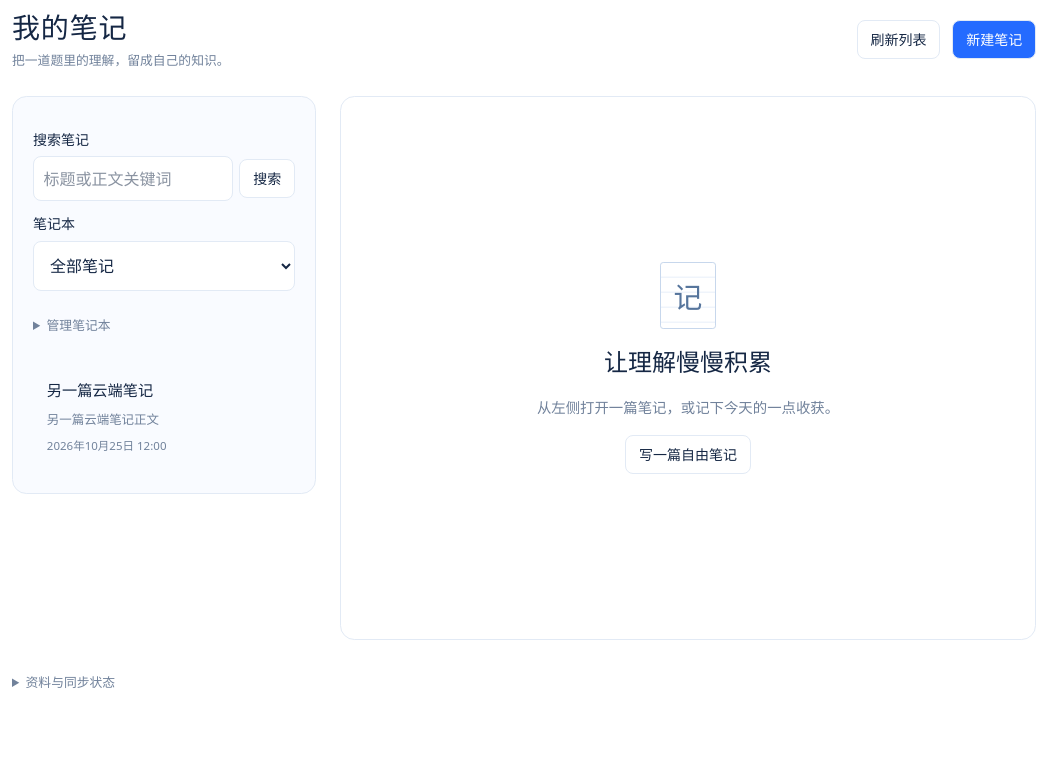
NotesWorkspace › keeps the active input when storage failure blocks switching to another note
The image size is (1048, 768).
Expected: the button "另一篇云端笔记" is shown, x1=33 y1=361 x2=295 y2=473
Click the button "新建笔记" at (994, 40), box x1=952 y1=20 x2=1036 y2=59
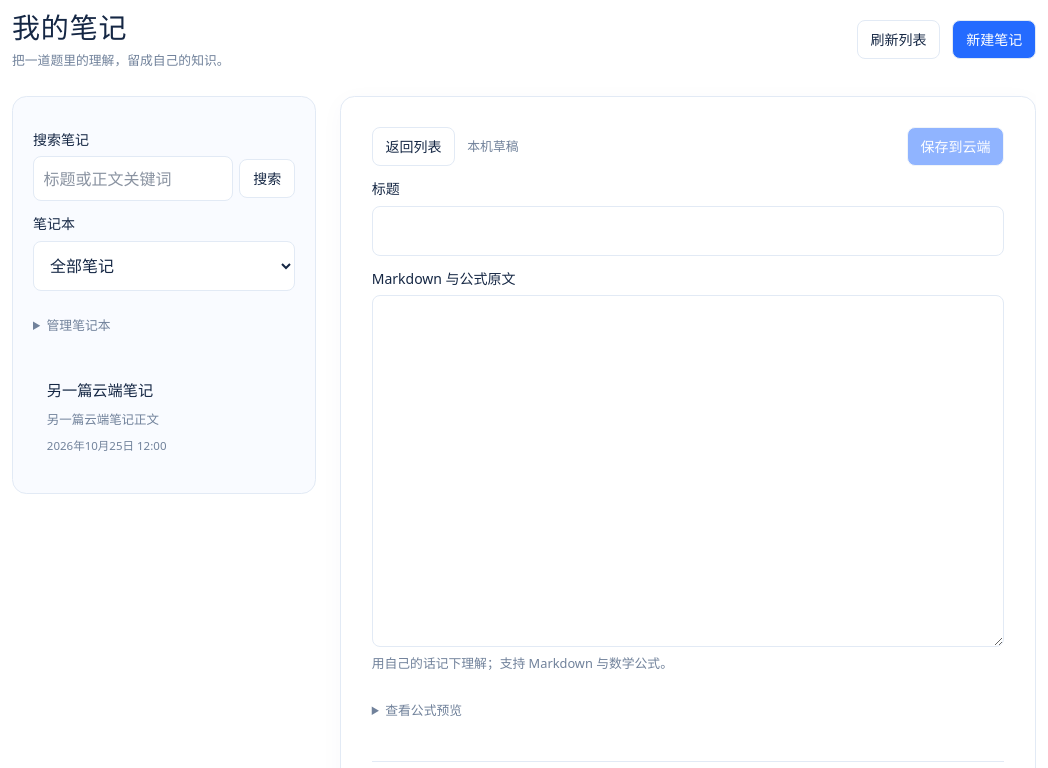
Expected: the field labelled "标题" is shown
Type "只在内存里的理解" into the field labelled "标题" at (688, 231), box x1=372 y1=206 x2=1004 y2=256
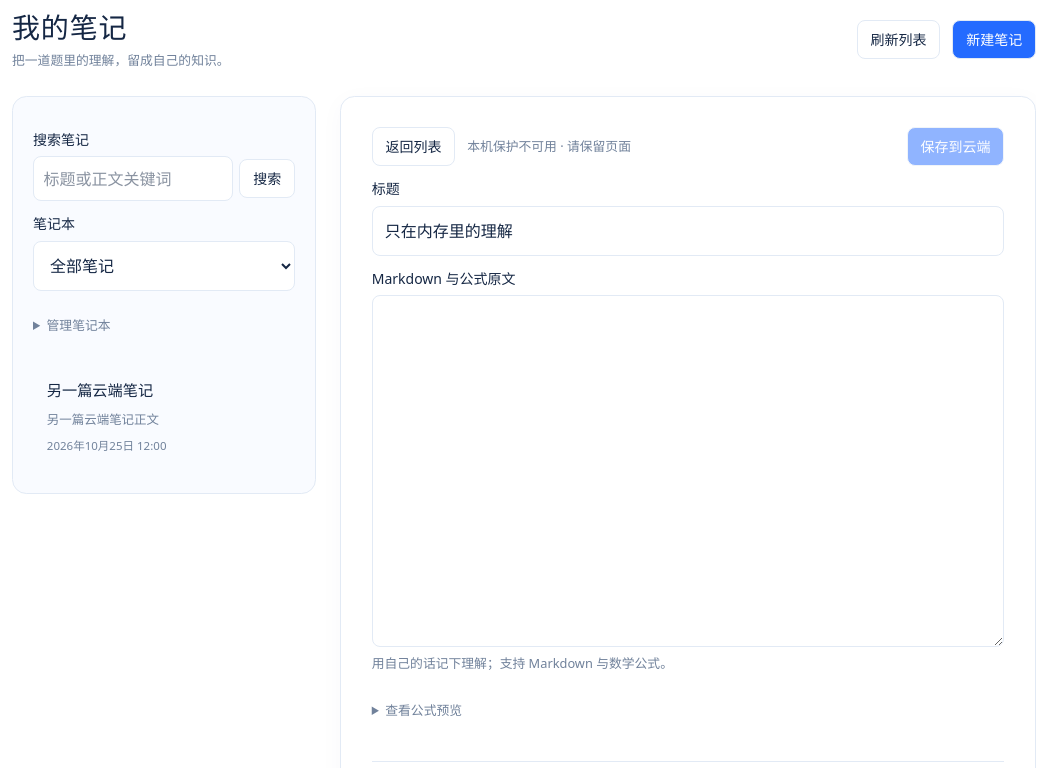
Click the button "另一篇云端笔记" at (100, 390), box x1=33 y1=361 x2=295 y2=473
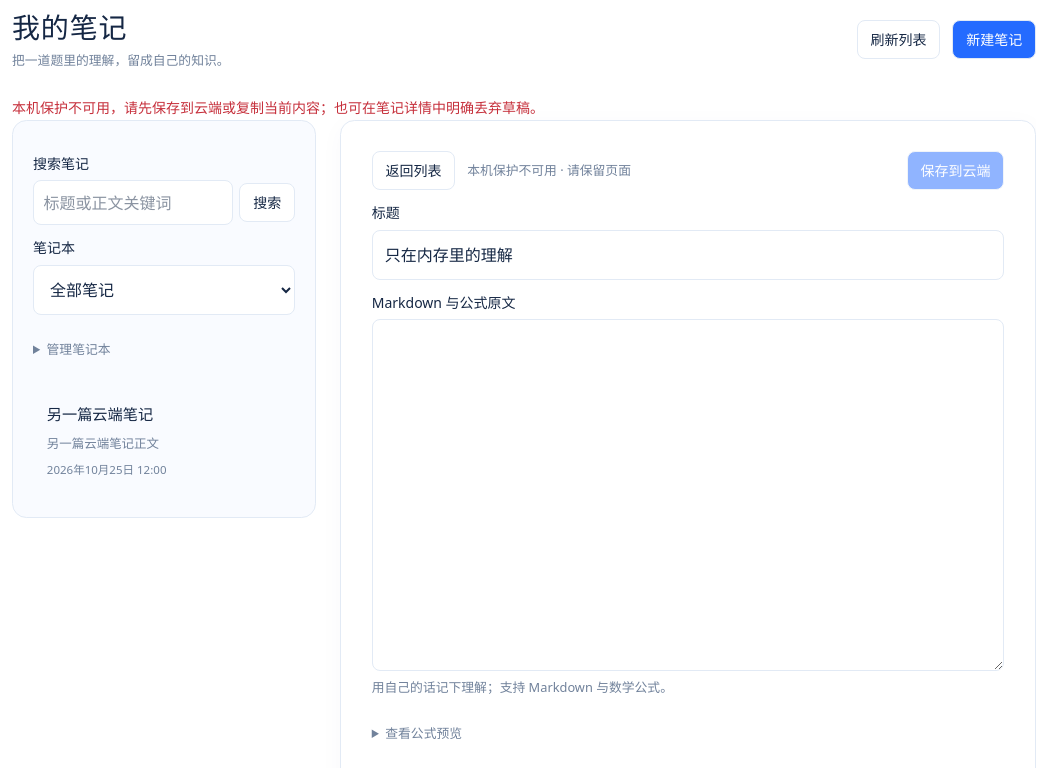
Expected: the text "本机保护不可用，请先保存到云端或复制当前内容；也可在笔记详情中明确丢弃草稿。" is shown, x1=12 y1=98 x2=544 y2=117
